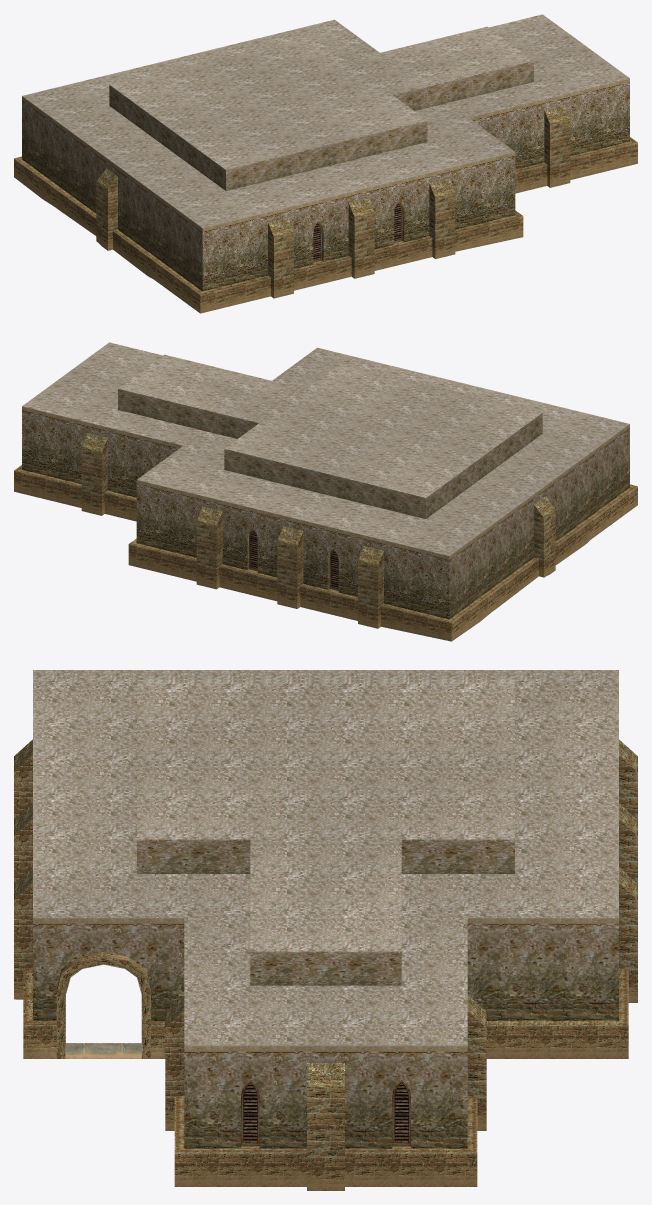
The model's file is M5Z1_VillageExt_02.glb.
3 renders of one model, top to bottom at view 1: azimuth 30°, elevation 25°; view 2: azimuth 150°, elevation 25°; view 3: azimuth 270°, elevation 25°, orthographic. The views are drawn at different scales.
Parts seen in each view (by area): view 1: M5Z1_VILLAGEEXT_02; view 2: M5Z1_VILLAGEEXT_02; view 3: M5Z1_VILLAGEEXT_02.
Boxes of the visible parts, box(x1,y1,x2,y2) form: M5Z1_VILLAGEEXT_02: box(14, 14, 637, 313); M5Z1_VILLAGEEXT_02: box(14, 342, 637, 641); M5Z1_VILLAGEEXT_02: box(14, 670, 637, 1190).
Size of the model in its own units: 24.5 by 5 by 16.5.
6 materials, 6 textured.
